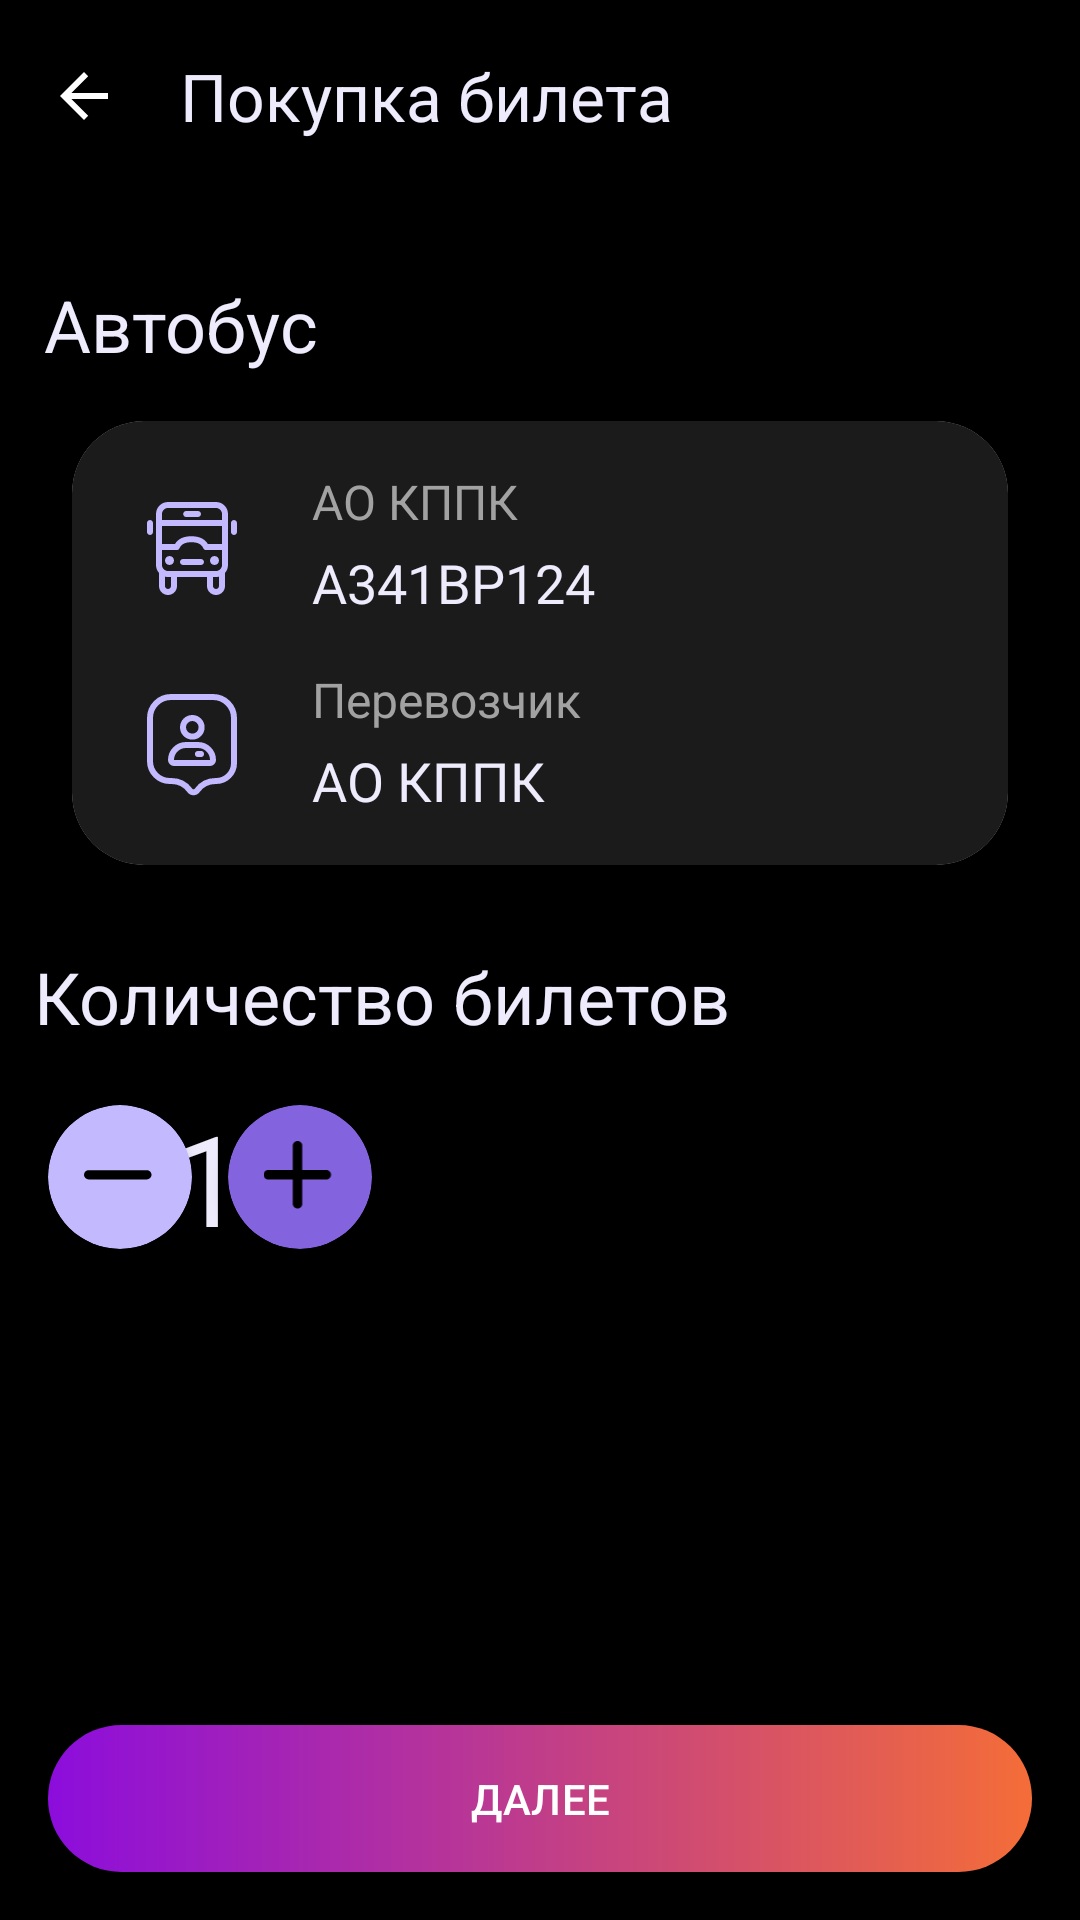

Icons on this 1080 × 1920 Android screen, each with the point to tap as (x=x, y=y):
Увеличить количество: (x=298, y=1175)
